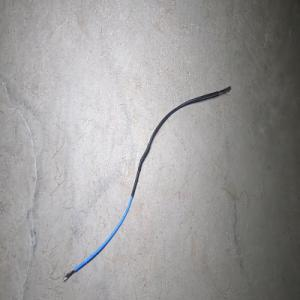Wire: (62, 84, 231, 281)
